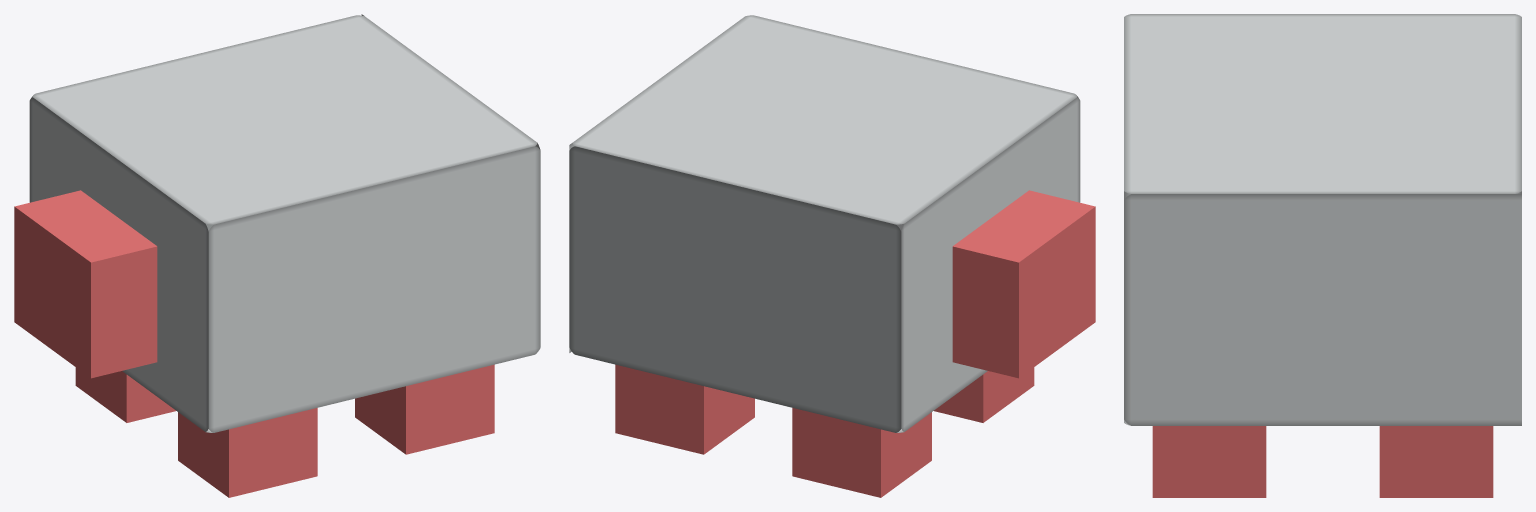
File: Sheeeep.fbx
3 renders of one model, left to right at view 1: azimuth 30°, elevation 25°; view 2: azimuth 150°, elevation 25°; view 3: azimuth 270°, elevation 25°, orthographic. The views are drawn at different scales.
Parts seen in each view (by area): view 1: mesh_4, mesh_5, Feets; view 2: mesh_4, mesh_5, Feets; view 3: mesh_4, Feets.
Part boxes in pixels (x1=…): mesh_4: x1=29, y1=14, x2=540, y2=432; mesh_5: x1=14, y1=190, x2=157, y2=378; Feets: x1=75, y1=364, x2=494, y2=497; mesh_4: x1=569, y1=15, x2=1080, y2=432; mesh_5: x1=952, y1=190, x2=1095, y2=378; Feets: x1=615, y1=364, x2=1034, y2=497; mesh_4: x1=1124, y1=14, x2=1521, y2=425; Feets: x1=1152, y1=426, x2=1493, y2=497.
Bounding box in the file's own units: 225 × 156 × 175.
Materials: 2 (2 with a texture image).
